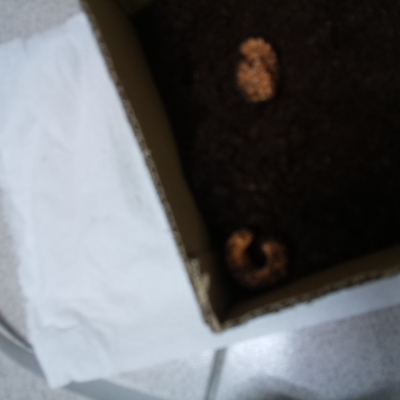eggs: (217, 217, 294, 295), (227, 33, 284, 109)
